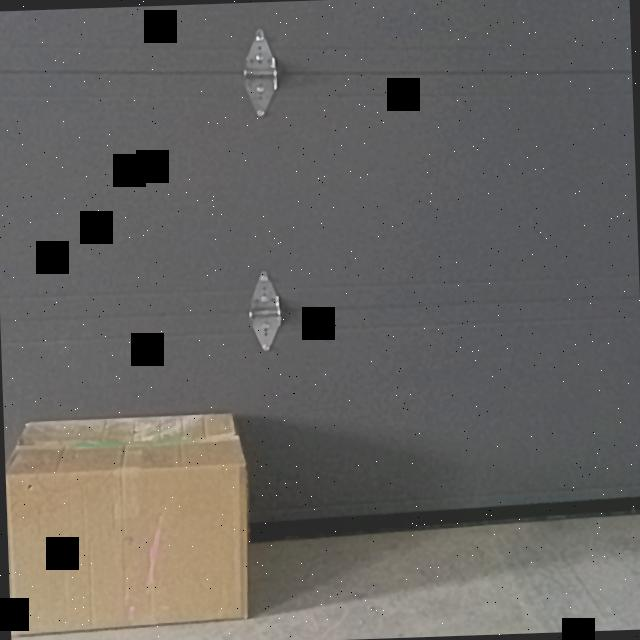box: (6, 462, 250, 631)
